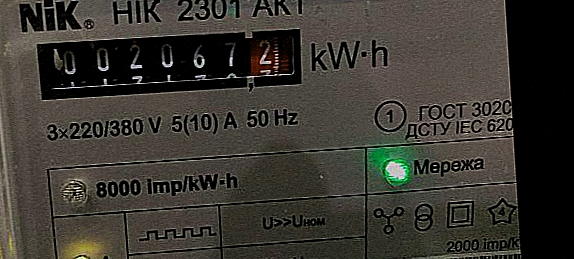0: (58, 48, 78, 78), (92, 44, 111, 74), (155, 40, 174, 69)
2: (254, 36, 274, 67), (125, 41, 144, 71)
6: (188, 41, 208, 71)
7: (221, 39, 239, 70)
screen: (21, 14, 318, 114)
